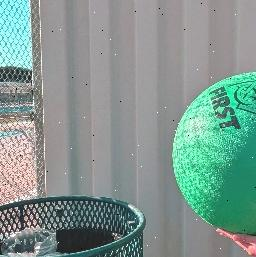algae: (175, 67, 256, 232)
